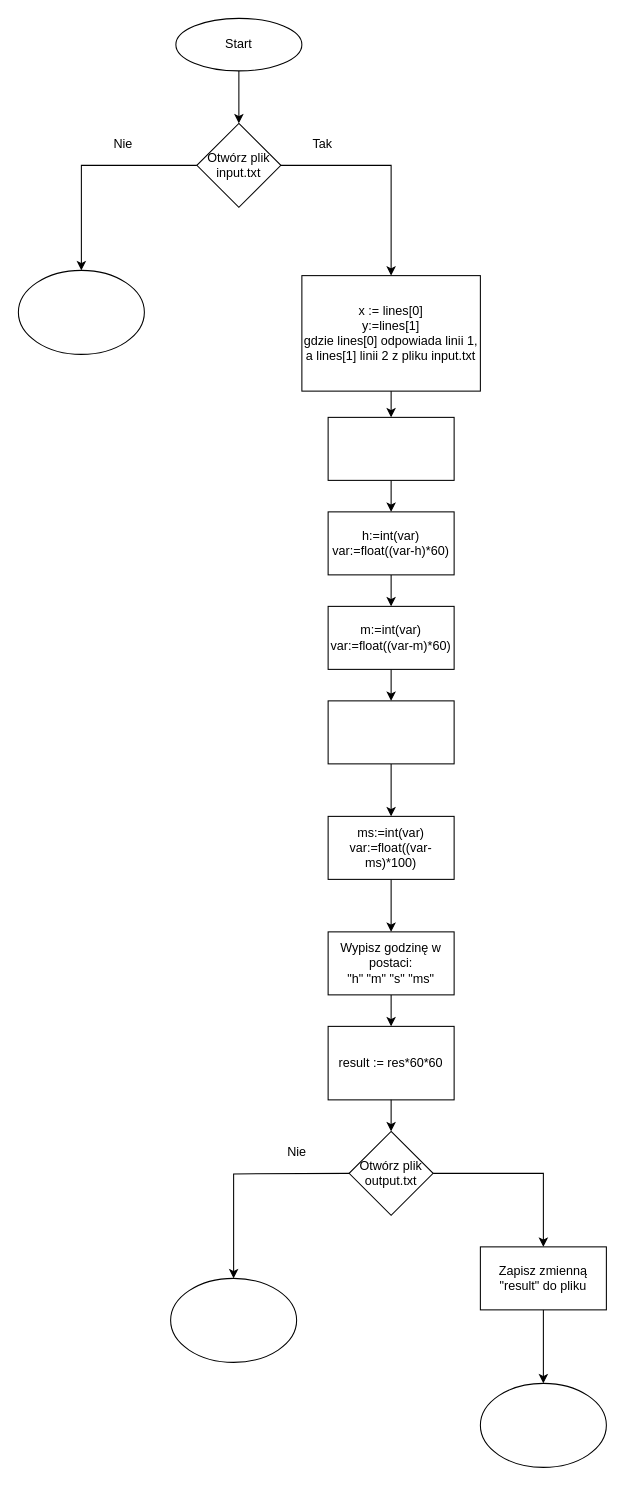
Image size: 625x1486. Some labels were removed from this diagram. The centre of each missing label's shape, as x and y in pixels:
"s:=int(var) var:=float((var-s)*60)" goes at point (390, 732).
"Stop kod: -1" goes at point (80, 311).
"Stop kod: 0" goes at point (233, 1319).
"Stop kod: 1" goes at point (542, 1424).
"var := x/y res := var" goes at point (390, 448).
